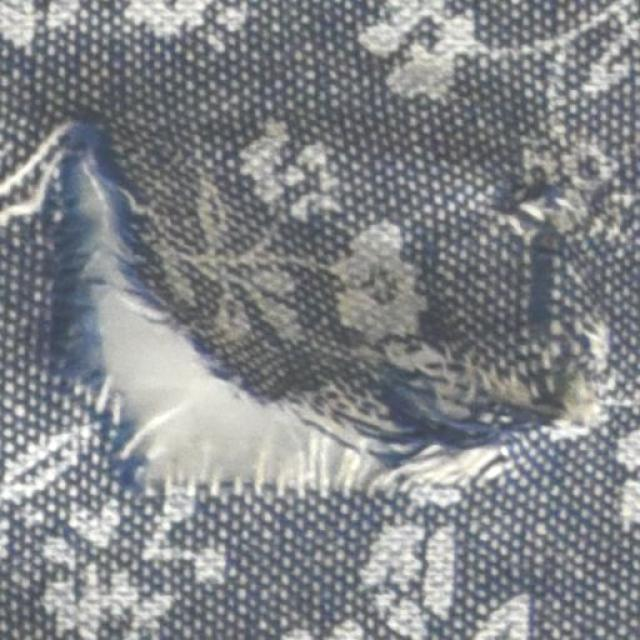Hole: (84, 188, 318, 491)
Snag: (24, 136, 156, 487), (344, 346, 587, 485)
